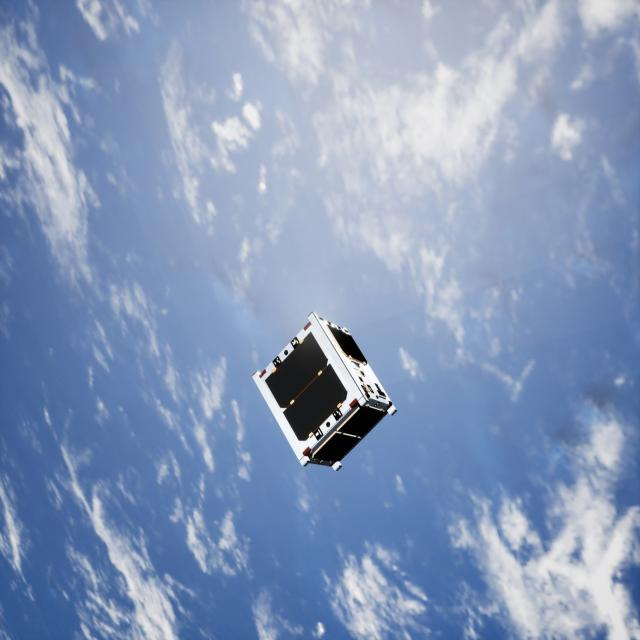satellite: (250, 310, 396, 478)
